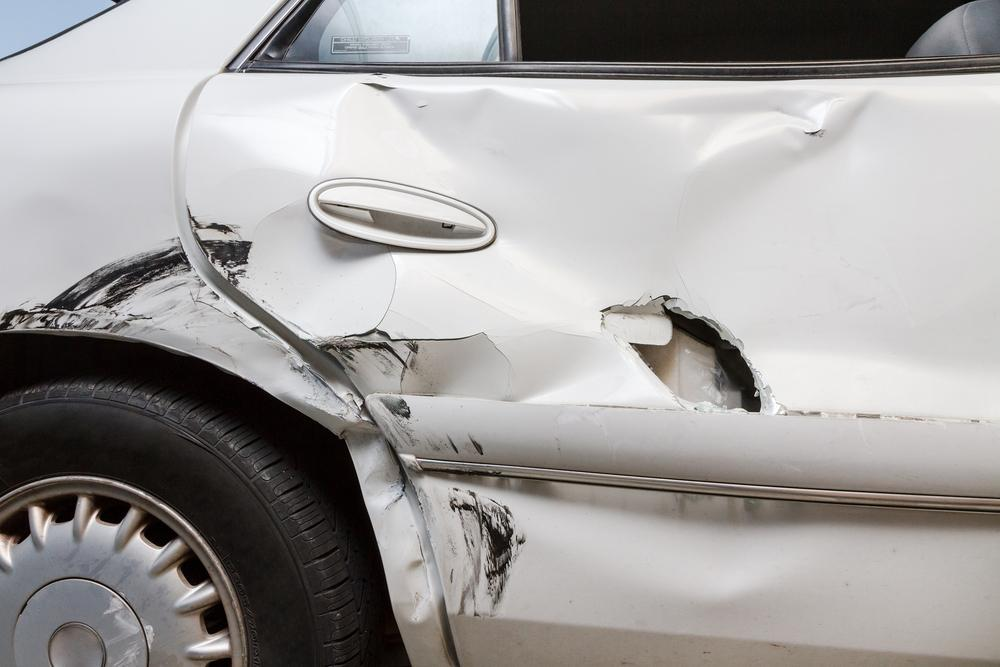crack: (629, 306, 766, 415)
dent: (189, 82, 1000, 420), (229, 337, 439, 623), (538, 485, 848, 601)
scratch: (0, 237, 221, 340), (449, 488, 531, 618), (380, 393, 490, 455)
